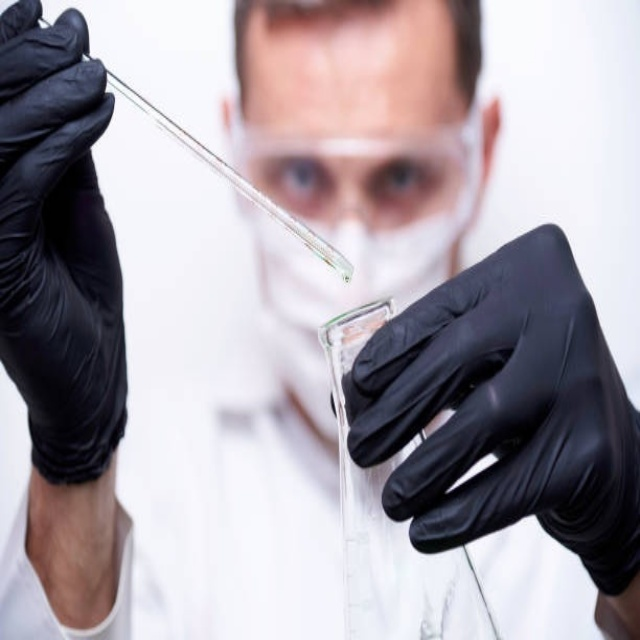Gafas: (323, 292, 514, 640), (229, 88, 478, 238)
Guantes: (342, 224, 639, 599), (0, 0, 127, 488)
Mascara: (244, 190, 464, 455)
